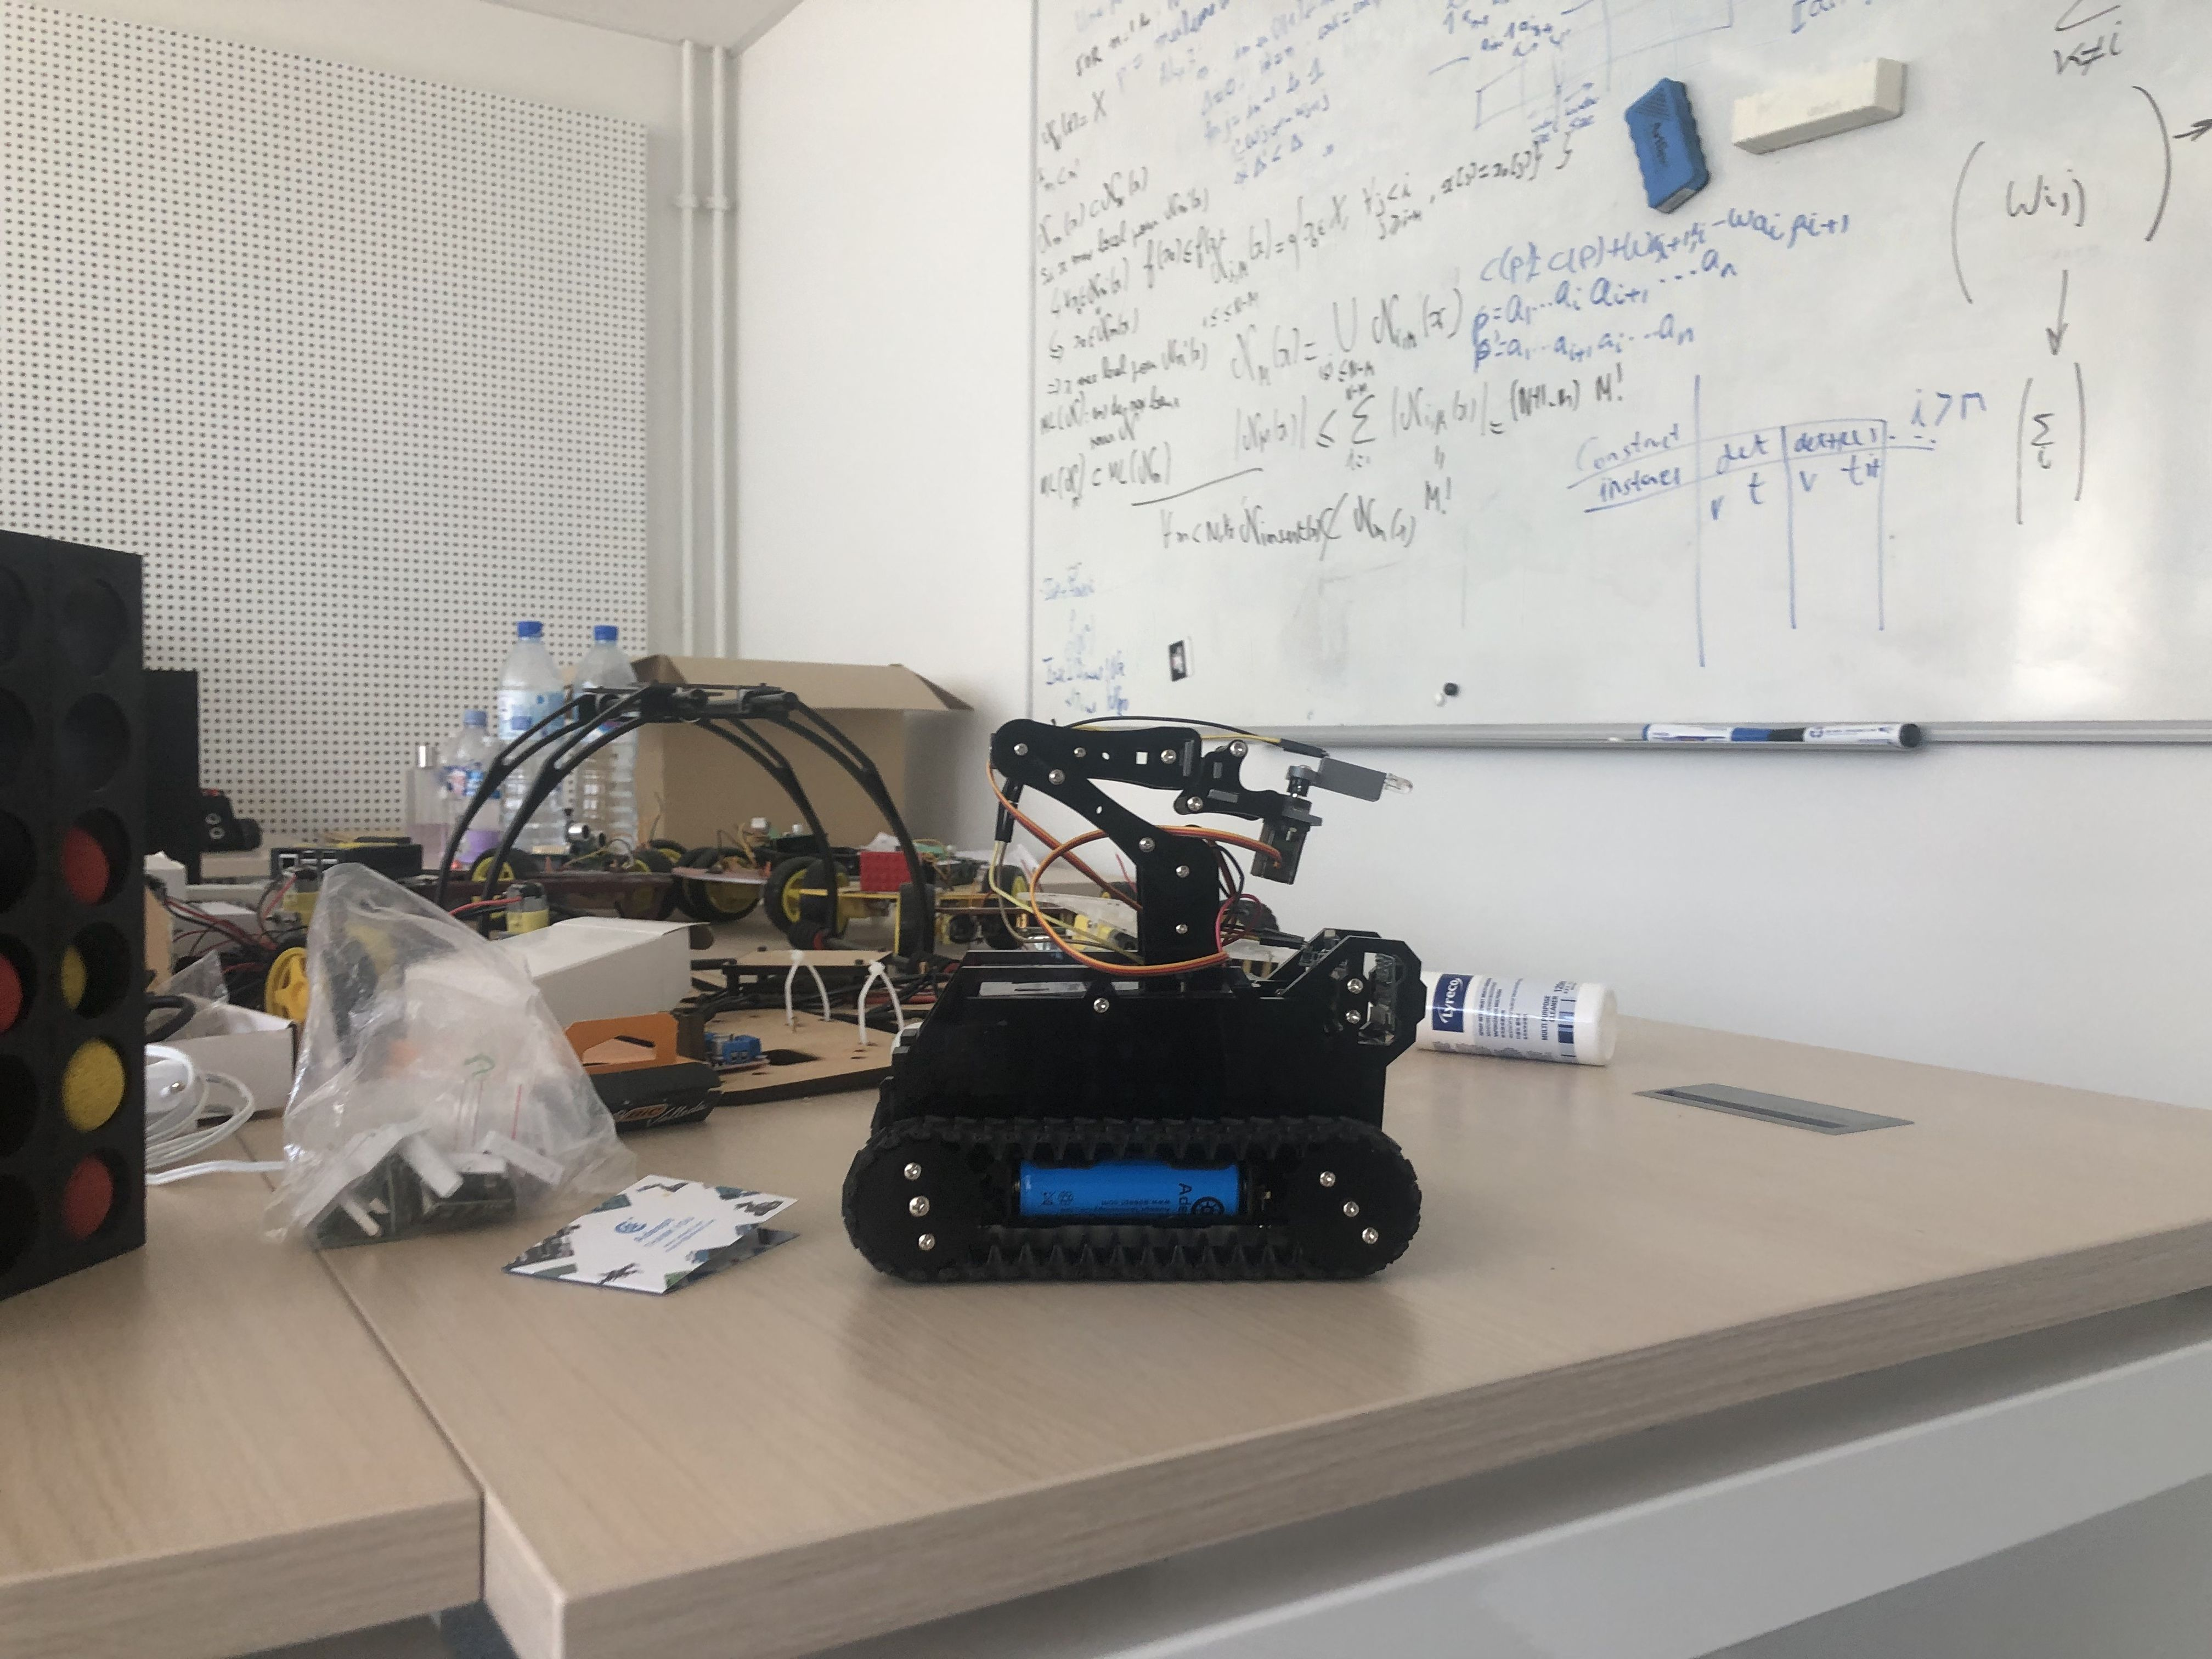rasptank: (840, 725, 1439, 1288)
